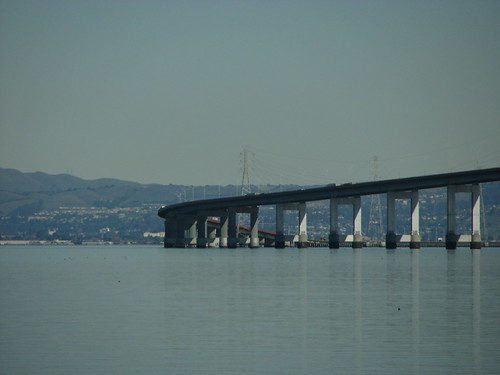bridge: (162, 165, 495, 244)
sea: (1, 249, 493, 375)
sky: (1, 1, 492, 156)
